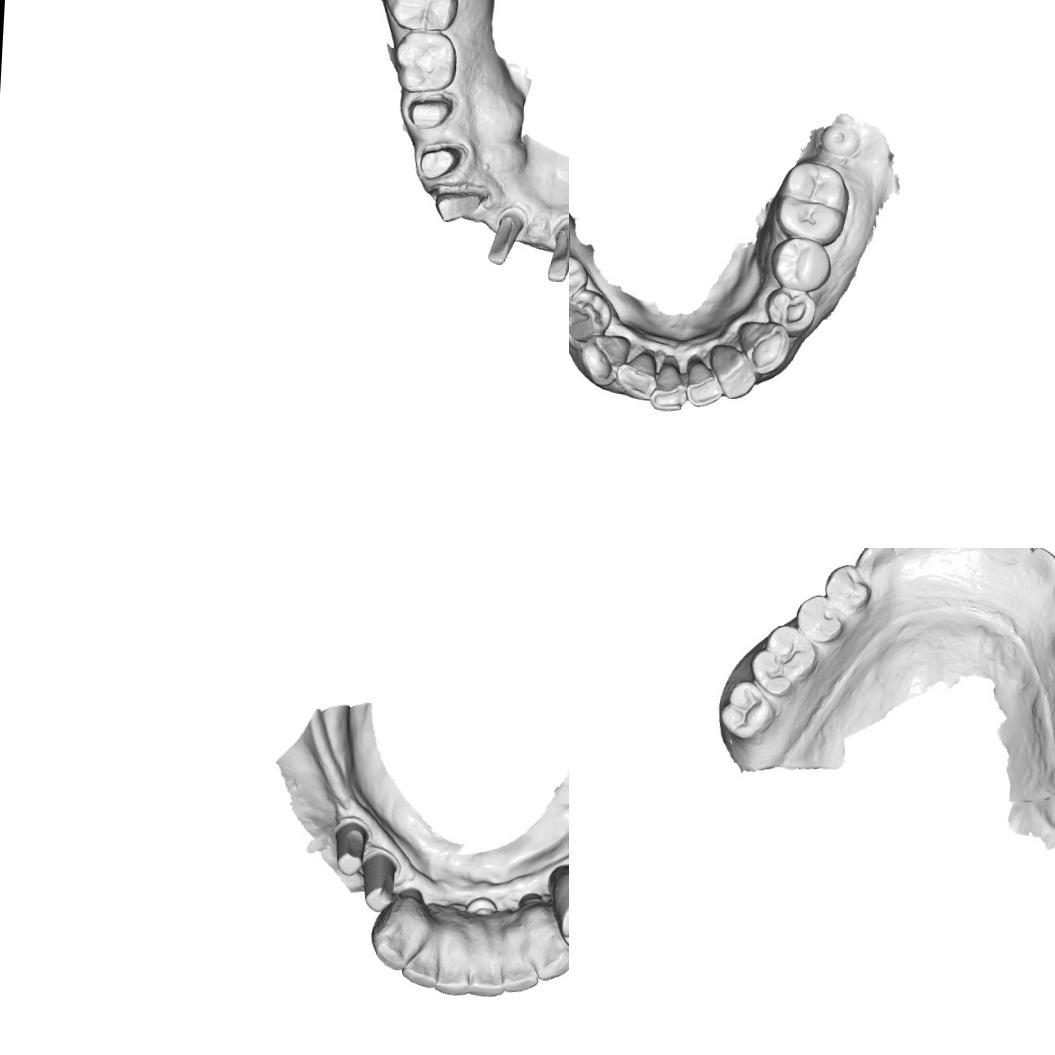abutment: (326, 809, 370, 879), (356, 851, 400, 914)
canine: (734, 318, 791, 379), (573, 330, 631, 388), (368, 914, 418, 970), (529, 923, 569, 984), (851, 548, 897, 583)
crown: (484, 205, 528, 268), (414, 138, 468, 184), (430, 185, 490, 225), (402, 92, 456, 131), (545, 219, 569, 284)
implant: (816, 120, 858, 158)
incisor: (648, 352, 690, 413), (610, 347, 657, 401), (712, 346, 758, 400), (499, 940, 541, 998), (682, 355, 725, 408), (434, 948, 475, 996), (466, 954, 506, 999), (400, 947, 441, 990), (1024, 548, 1055, 588), (980, 548, 1037, 565), (927, 548, 986, 563), (890, 548, 932, 564)
molar: (772, 156, 850, 246), (746, 619, 822, 699), (391, 27, 459, 95), (717, 677, 778, 743), (382, 0, 462, 35)
premolar: (770, 234, 832, 292), (792, 592, 846, 646), (764, 284, 817, 336), (569, 285, 615, 343), (820, 561, 872, 612), (569, 253, 589, 314), (555, 893, 569, 952)
